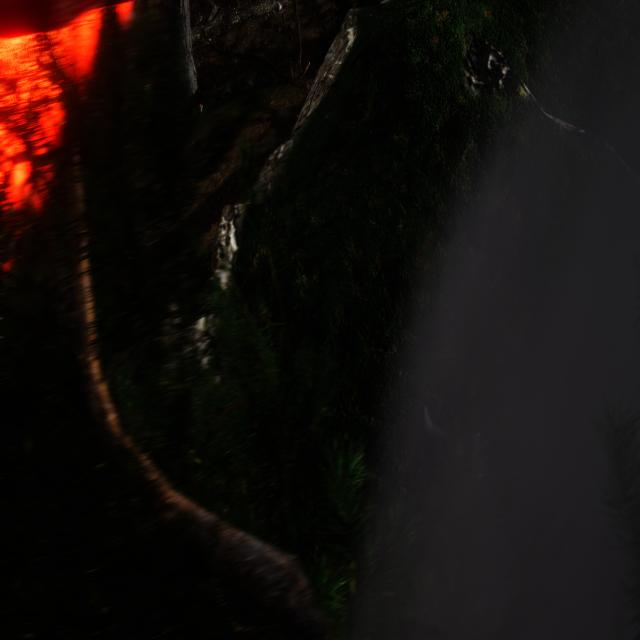Human: (398, 367, 487, 472)
